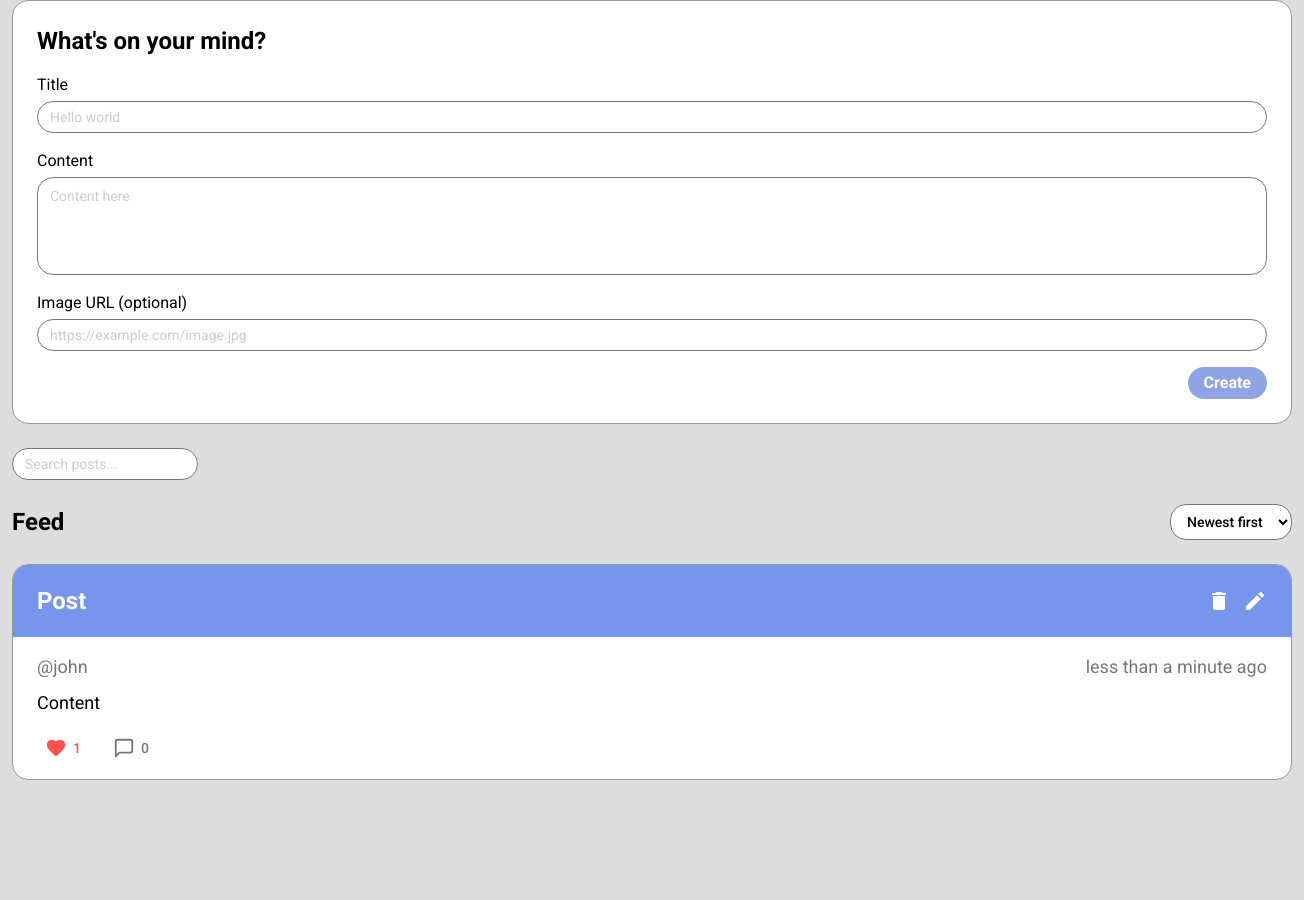
it: Smoke: Comments › adds comment and shows in list
Expected: the heading "Post" is shown, [37, 585, 86, 617]
Click the button named "show comments" at x=131, y=748, box [105, 733, 157, 763]
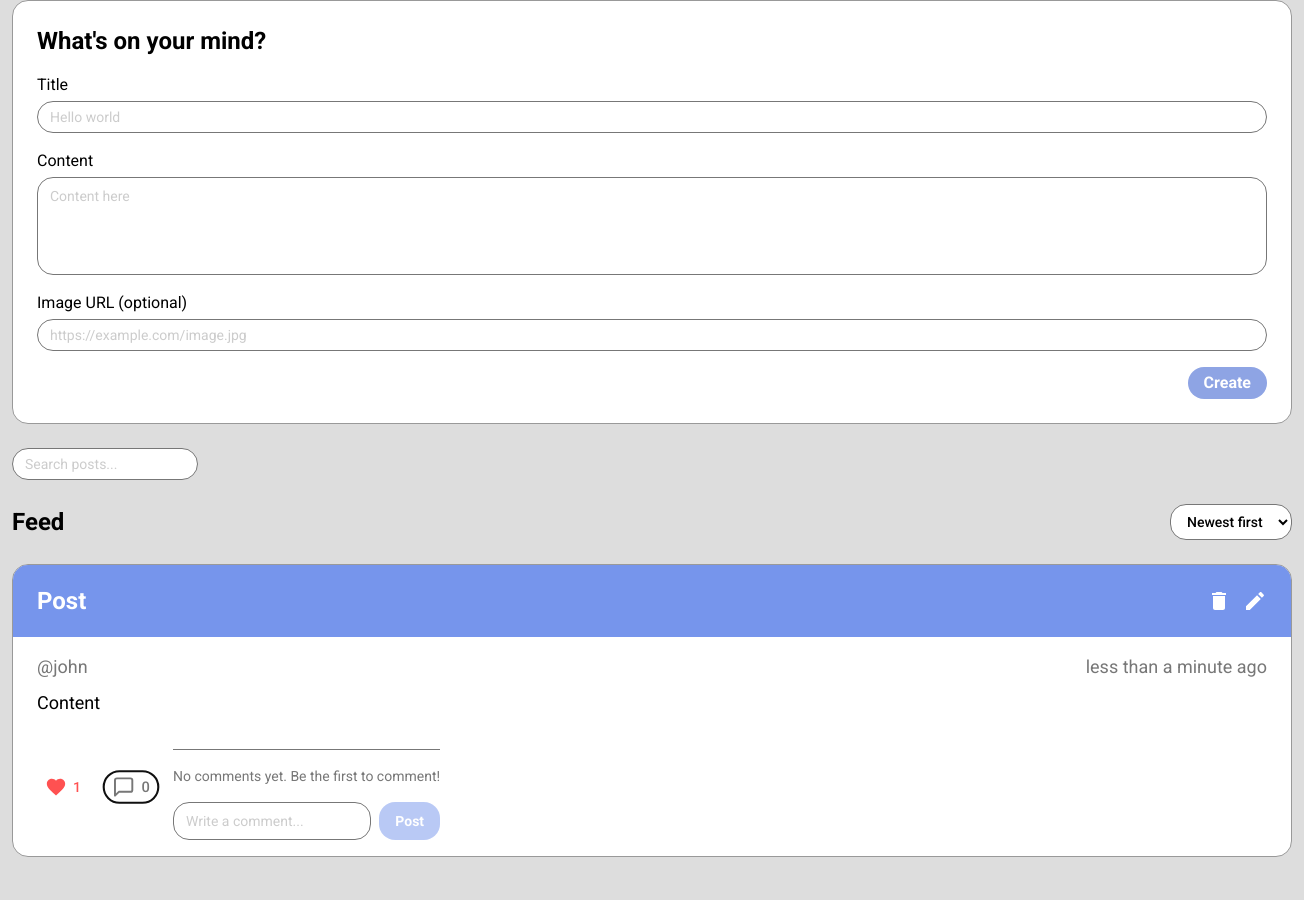
Type "My first comment" into the field with placeholder "Write a comment..." at x=272, y=821, box [173, 802, 371, 840]
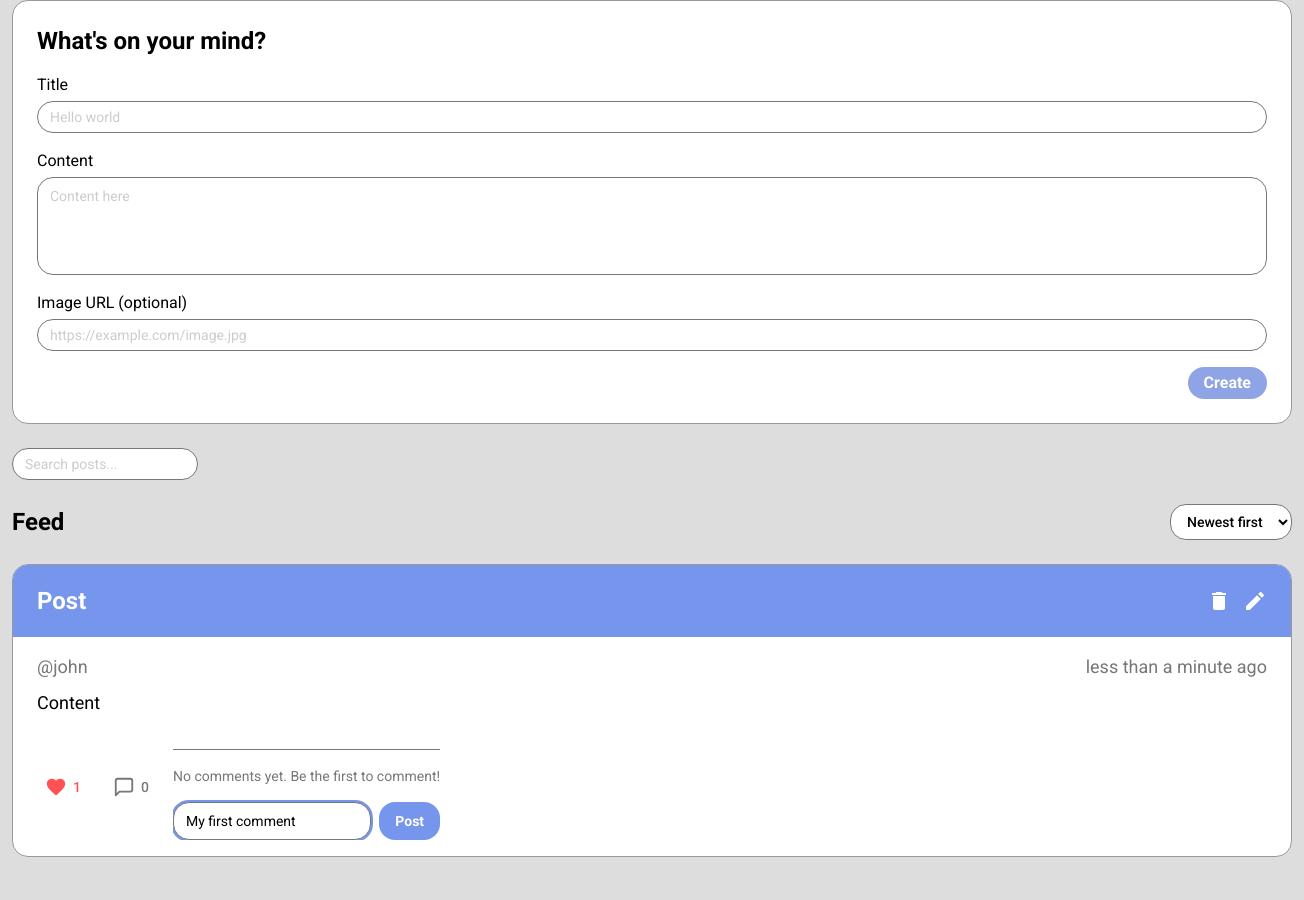
Click the button "Post" at x=410, y=821, box [379, 802, 440, 840]
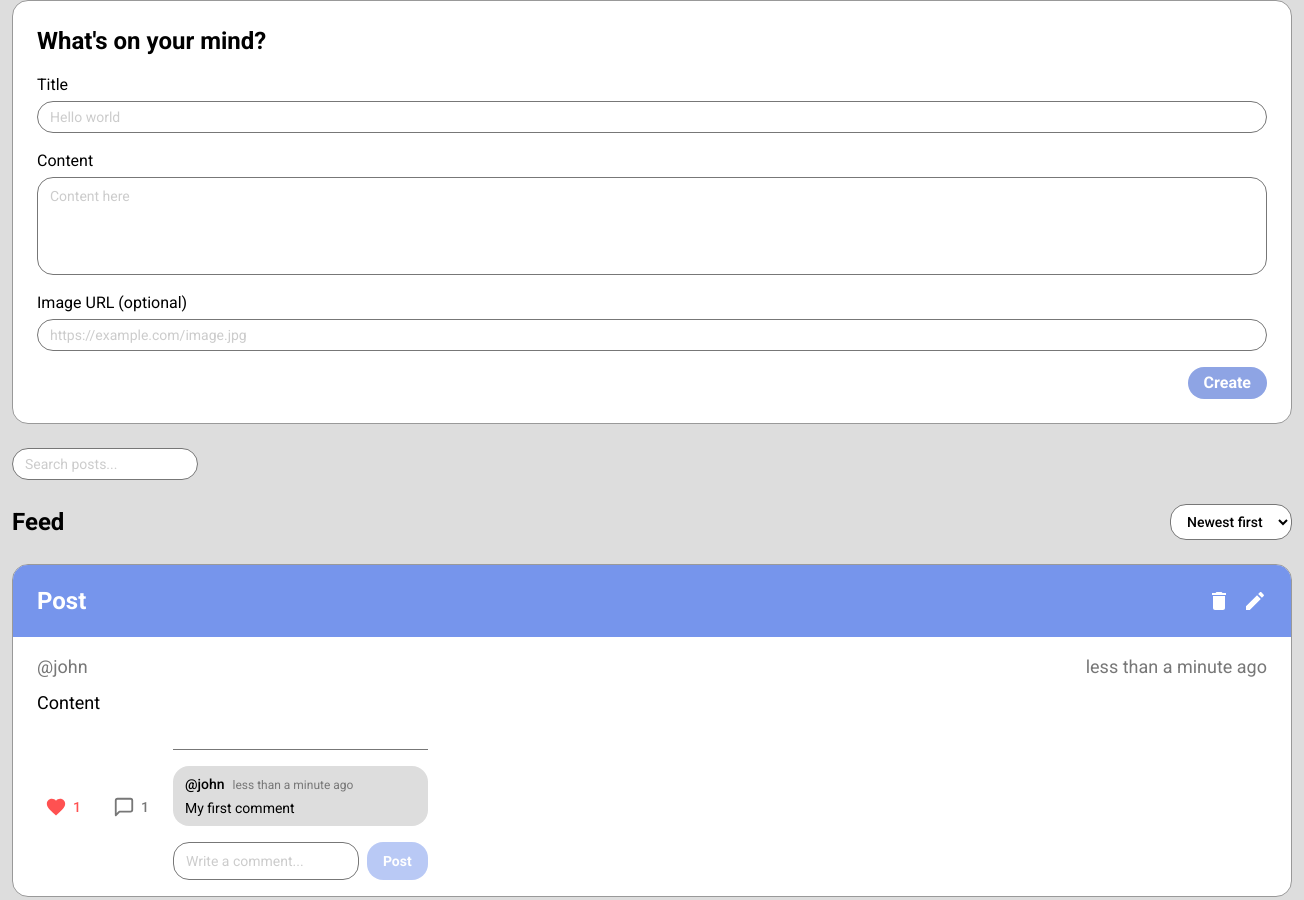
Result: the list item "My first comment" is shown at [185, 800, 295, 816]
Result: the 2nd text "@john" is shown at [185, 774, 224, 794]
